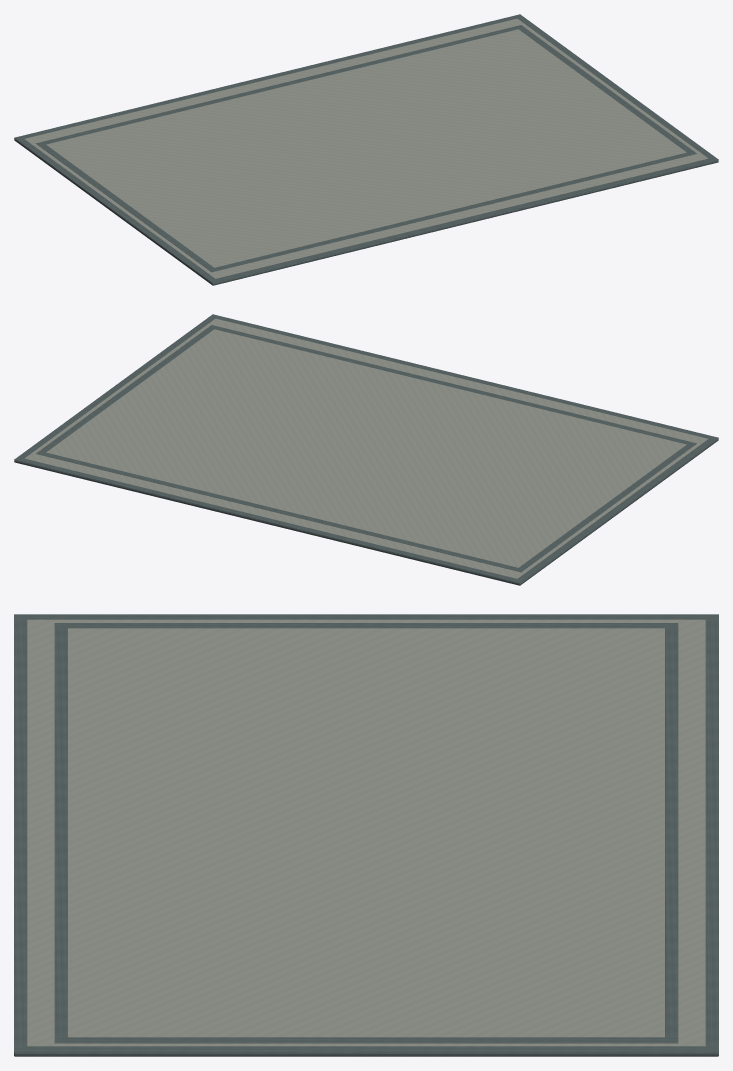
The model's file is rugs_v06a.glb.
The picture shows the model from 3 angles, top to bottom: view 1: azimuth 30°, elevation 25°; view 2: azimuth 150°, elevation 25°; view 3: azimuth 270°, elevation 25°; orthographic projection. The views are drawn at different scales.
Parts seen in each view (by area): view 1: VIS_RugLoungeWovenField, VIS_RugWorkstationWovenField, VIS_RugWorkstationBoundEdge, VIS_RugLoungeBoundEdge; view 2: VIS_RugLoungeWovenField, VIS_RugWorkstationWovenField, VIS_RugWorkstationBoundEdge, VIS_RugLoungeBoundEdge; view 3: VIS_RugLoungeWovenField, VIS_RugWorkstationWovenField, VIS_RugWorkstationBoundEdge, VIS_RugLoungeBoundEdge.
Boxes of the visible parts, x1=… form: VIS_RugLoungeWovenField: x1=46, y1=29, x2=686, y2=267; VIS_RugWorkstationWovenField: x1=25, y1=18, x2=708, y2=278; VIS_RugWorkstationBoundEdge: x1=14, y1=14, x2=718, y2=285; VIS_RugLoungeBoundEdge: x1=36, y1=25, x2=696, y2=272; VIS_RugLoungeWovenField: x1=46, y1=329, x2=686, y2=567; VIS_RugWorkstationWovenField: x1=24, y1=318, x2=707, y2=578; VIS_RugWorkstationBoundEdge: x1=14, y1=314, x2=718, y2=585; VIS_RugLoungeBoundEdge: x1=36, y1=325, x2=696, y2=572; VIS_RugLoungeWovenField: x1=68, y1=628, x2=664, y2=1037; VIS_RugWorkstationWovenField: x1=27, y1=619, x2=705, y2=1046; VIS_RugWorkstationBoundEdge: x1=14, y1=614, x2=718, y2=1056; VIS_RugLoungeBoundEdge: x1=54, y1=623, x2=678, y2=1043.
Bounding box in the file's own units: 2.94 × 0.021 × 2.
Materials: 2 (2 with a texture image).
